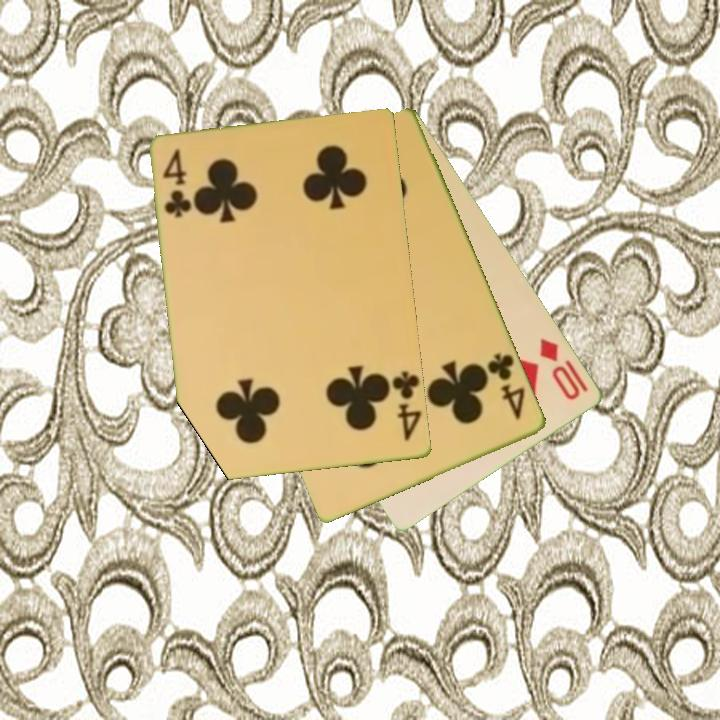10d: (536, 334, 584, 404)
4c: (484, 350, 529, 423), (389, 368, 425, 444), (160, 146, 194, 221)
